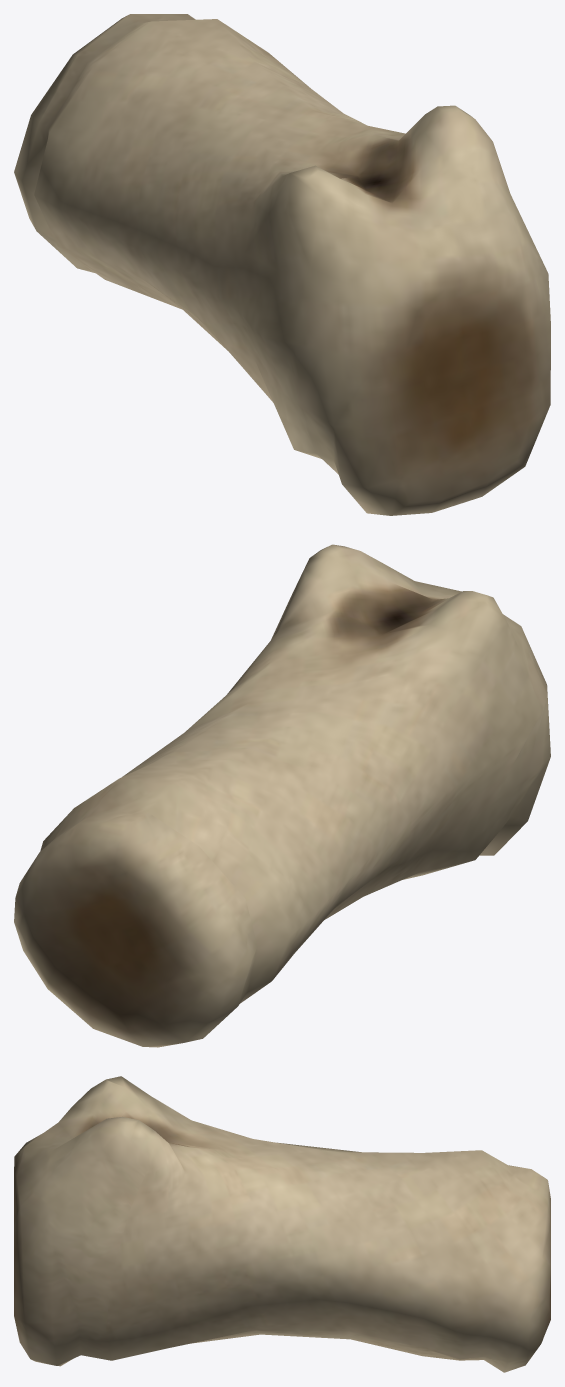
Rendered from Caudal_Vertebrae7.glb.
The picture shows the model from 3 angles, top to bottom: view 1: azimuth 30°, elevation 25°; view 2: azimuth 150°, elevation 25°; view 3: azimuth 270°, elevation 25°; orthographic projection. The views are drawn at different scales.
Visible parts, largest first — view 1: Caudal_Vertebrae_26:Group61199; view 2: Caudal_Vertebrae_26:Group61199; view 3: Caudal_Vertebrae_26:Group61199.
Part boxes in pixels (left/top/right/bottom): Caudal_Vertebrae_26:Group61199: left=14, top=14, right=550, bottom=515; Caudal_Vertebrae_26:Group61199: left=14, top=544, right=550, bottom=1047; Caudal_Vertebrae_26:Group61199: left=14, top=1076, right=550, bottom=1372.
Bounding box in the file's own units: 8.83 × 9.97 × 18.76.
1 material, 1 textured.
